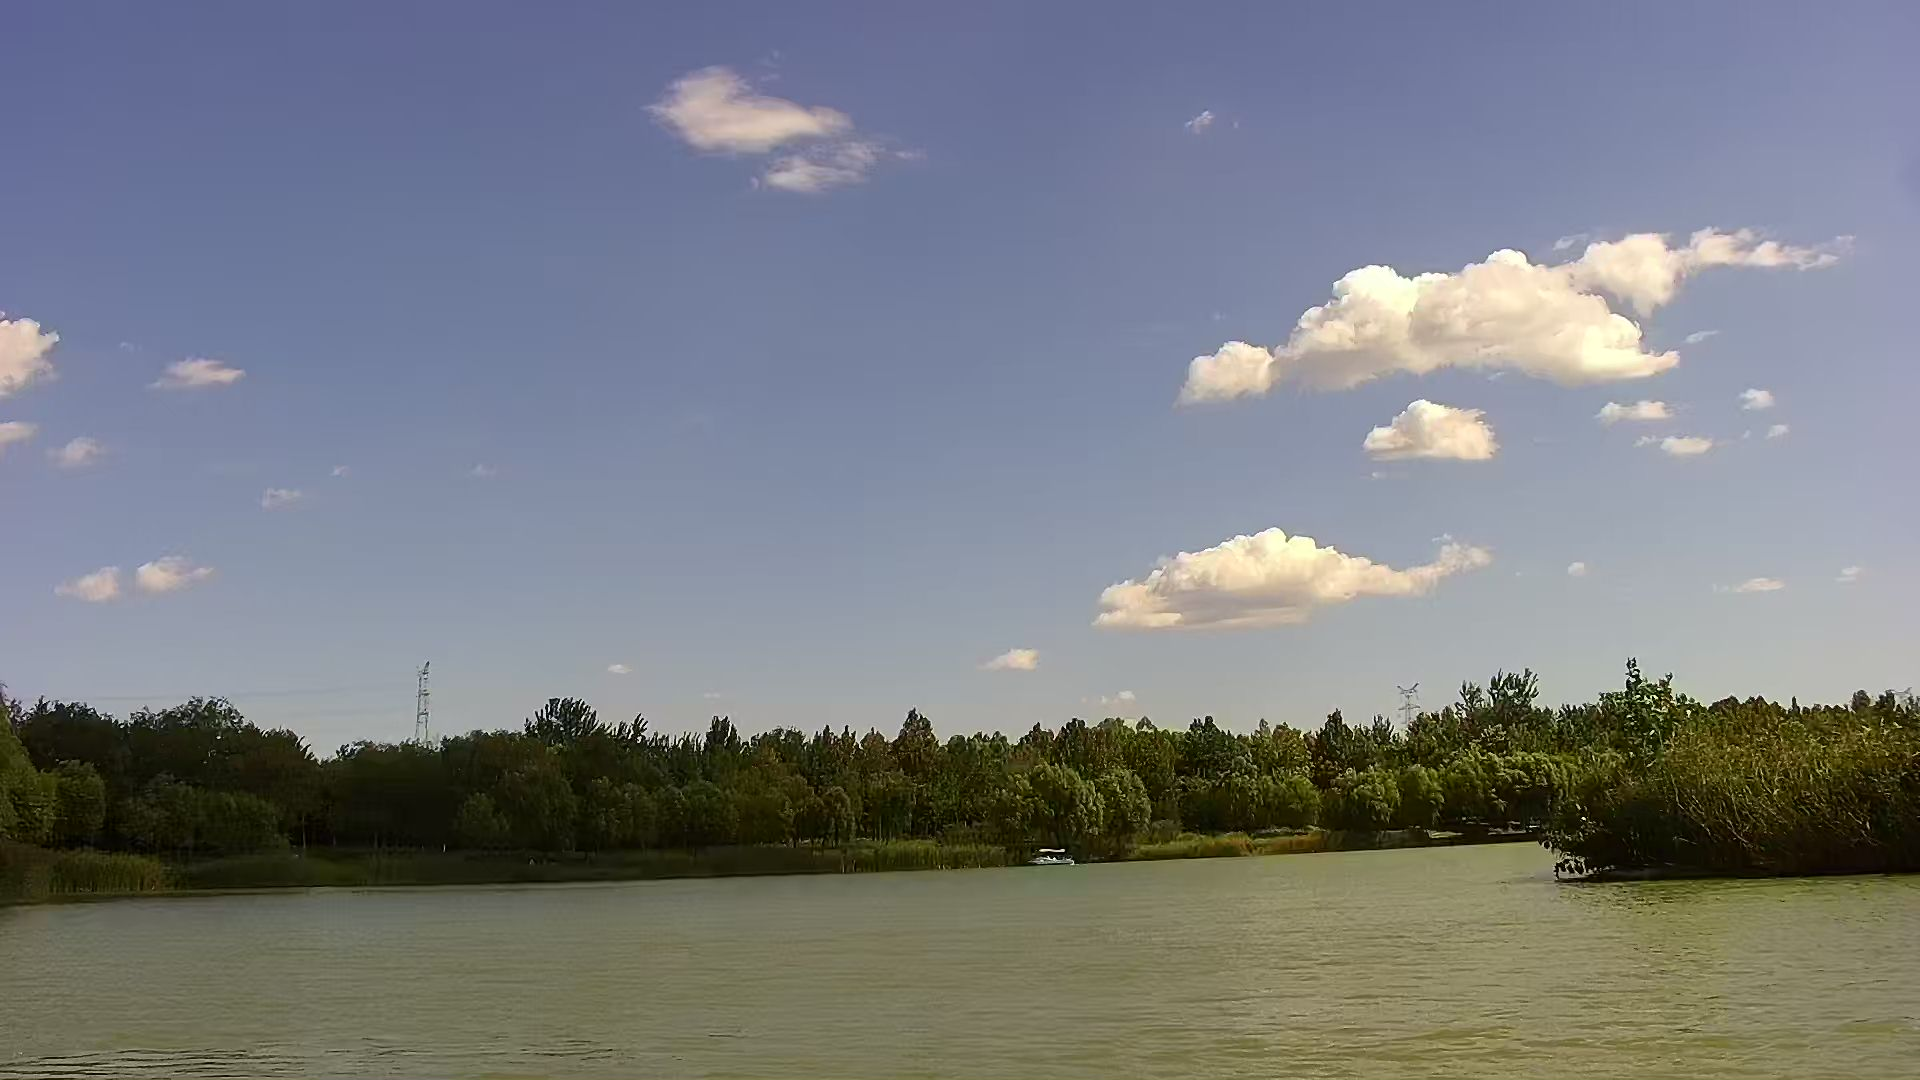boat: (1023, 847, 1076, 866)
